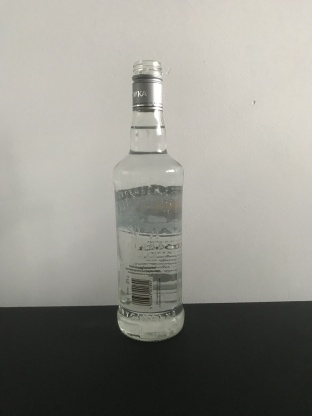nakretka: (129, 57, 164, 113)
